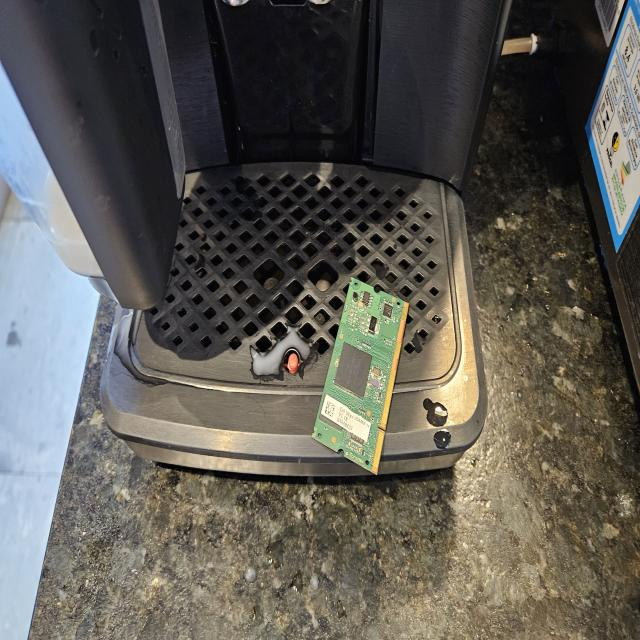som: (305, 275, 417, 478)
